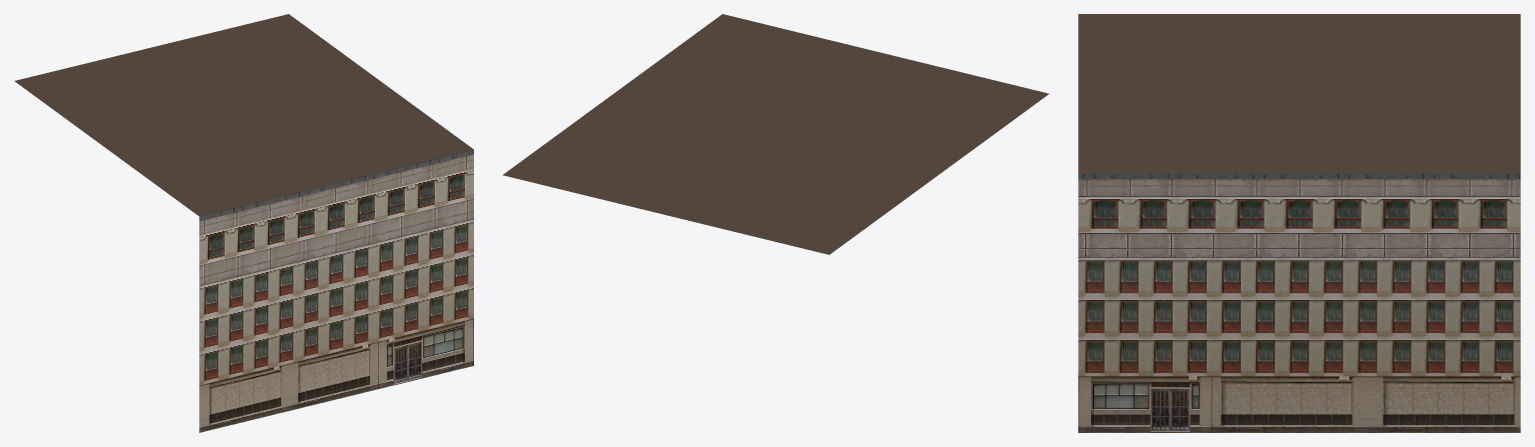
The model's file is M2Zone4_Building08.glb.
The picture shows the model from 3 angles, left to right: view 1: azimuth 30°, elevation 25°; view 2: azimuth 150°, elevation 25°; view 3: azimuth 270°, elevation 25°; orthographic projection. The views are drawn at different scales.
Visible parts, largest first — view 1: M2ZONE4_BUILDING08; view 2: M2ZONE4_BUILDING08; view 3: M2ZONE4_BUILDING08.
Part boxes in pixels (x1,y1,x2,y2): M2ZONE4_BUILDING08: (14, 14, 473, 432); M2ZONE4_BUILDING08: (502, 14, 1049, 254); M2ZONE4_BUILDING08: (1078, 14, 1520, 432).
Bounding box in the file's own units: 24 × 18.08 × 28.
Materials: 6 (6 with a texture image).
